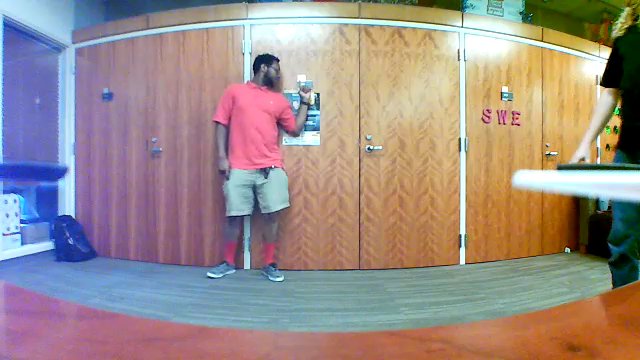up: (295, 78, 314, 105)
